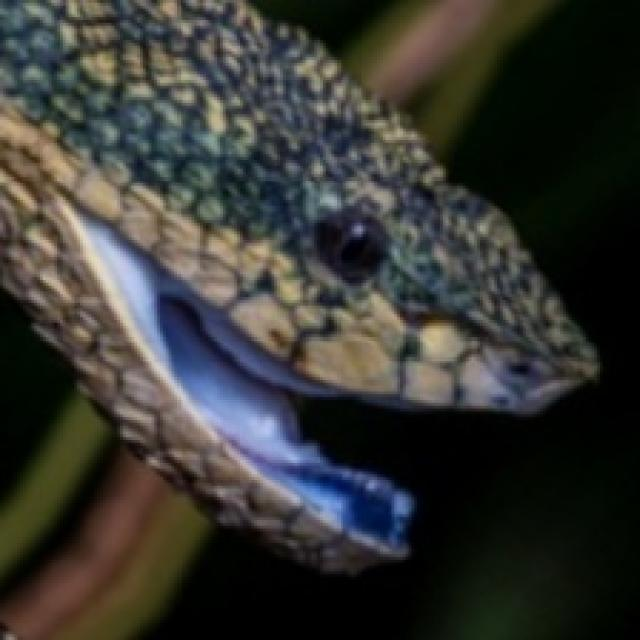north ph temple pitviper: (0, 0, 594, 571)
